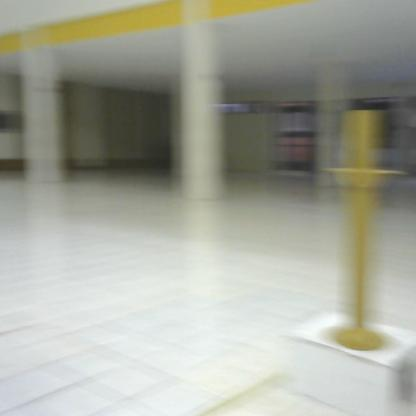pole: (326, 109, 397, 358)
